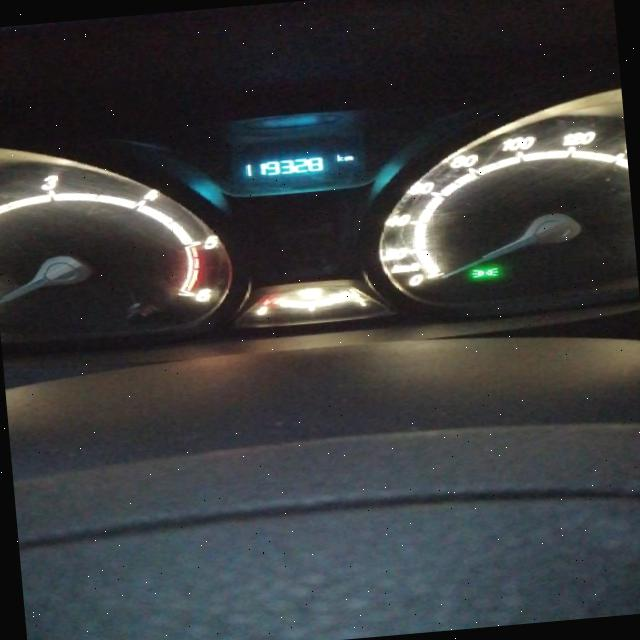odometer: (206, 142, 388, 202)
